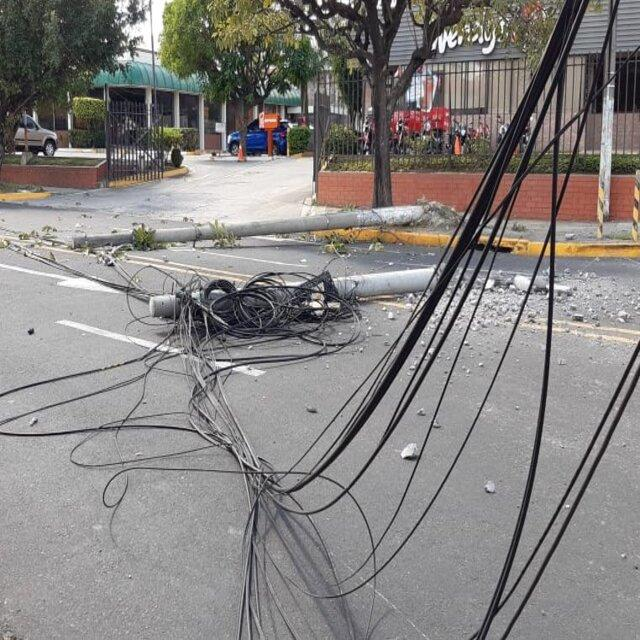Inclined Pole: (137, 261, 446, 350), (70, 197, 440, 254)
